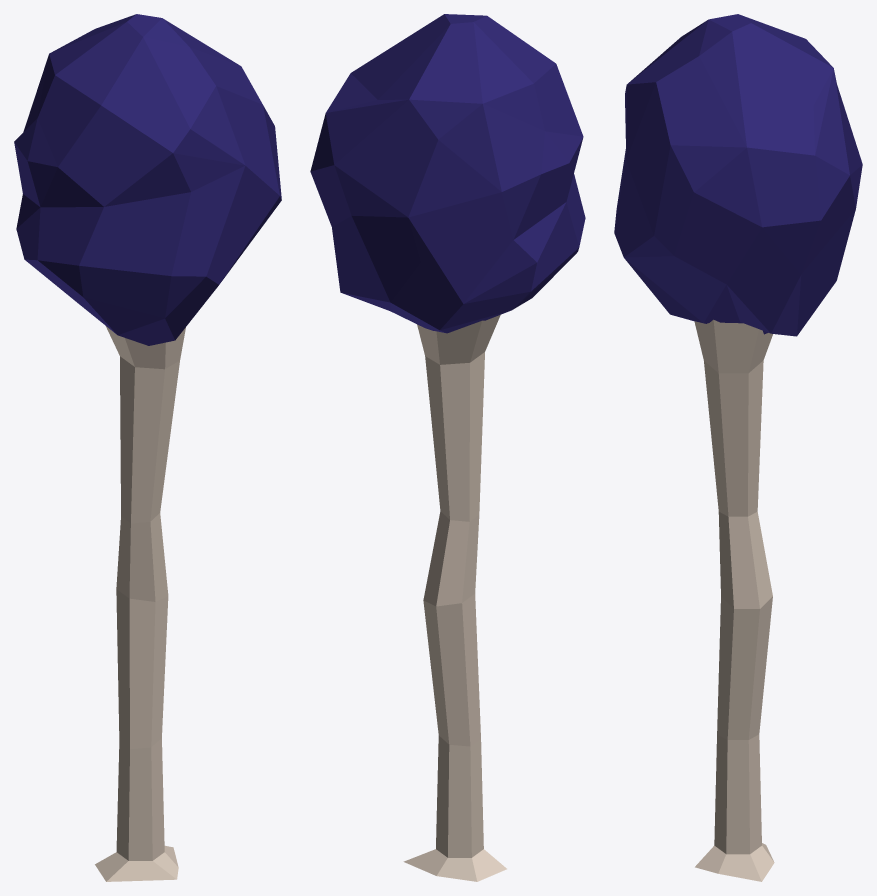
Rendered from tree_small1.fbx.
The picture shows the model from 3 angles, left to right: view 1: azimuth 30°, elevation 25°; view 2: azimuth 150°, elevation 25°; view 3: azimuth 270°, elevation 25°; orthographic projection.
Visible parts, largest first — view 1: Sphere; view 2: Sphere; view 3: Sphere.
Part boxes in pixels (left/top/right/bottom): Sphere: left=14, top=14, right=281, bottom=881; Sphere: left=310, top=14, right=585, bottom=881; Sphere: left=614, top=14, right=862, bottom=881.
Bounding box in the file's own units: 40.17 × 139 × 37.4.
